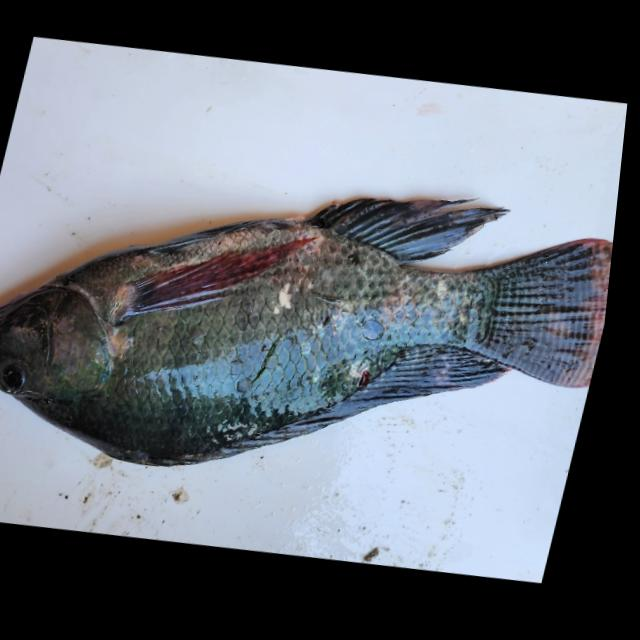Tilapia: (0, 125, 625, 534)
